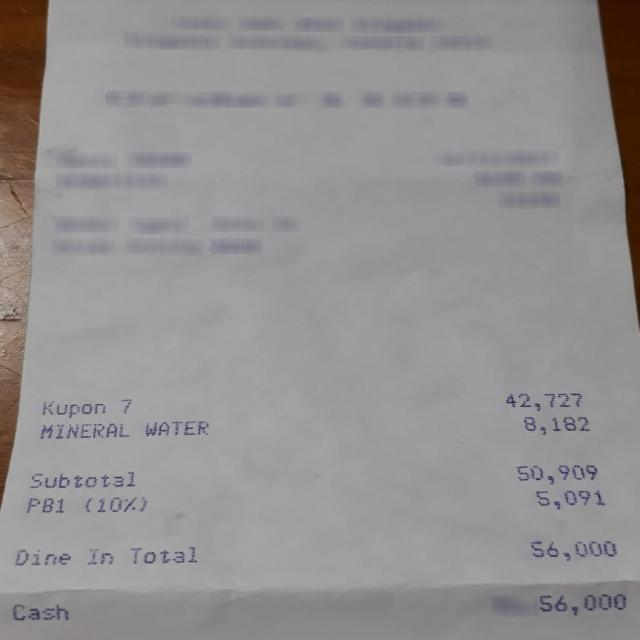kertas: (2, 0, 638, 640)
